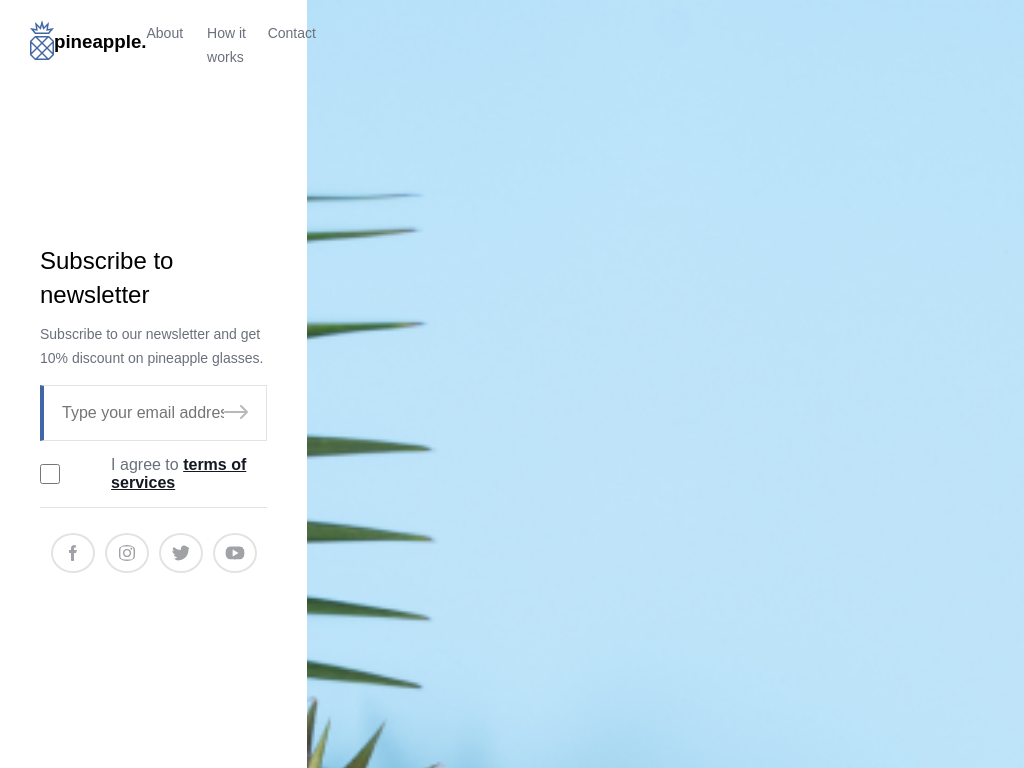
Test: has email validation
This screenshot has width=1024, height=768.
Type "test" into the field at [143, 413], box [62,404,224,422]
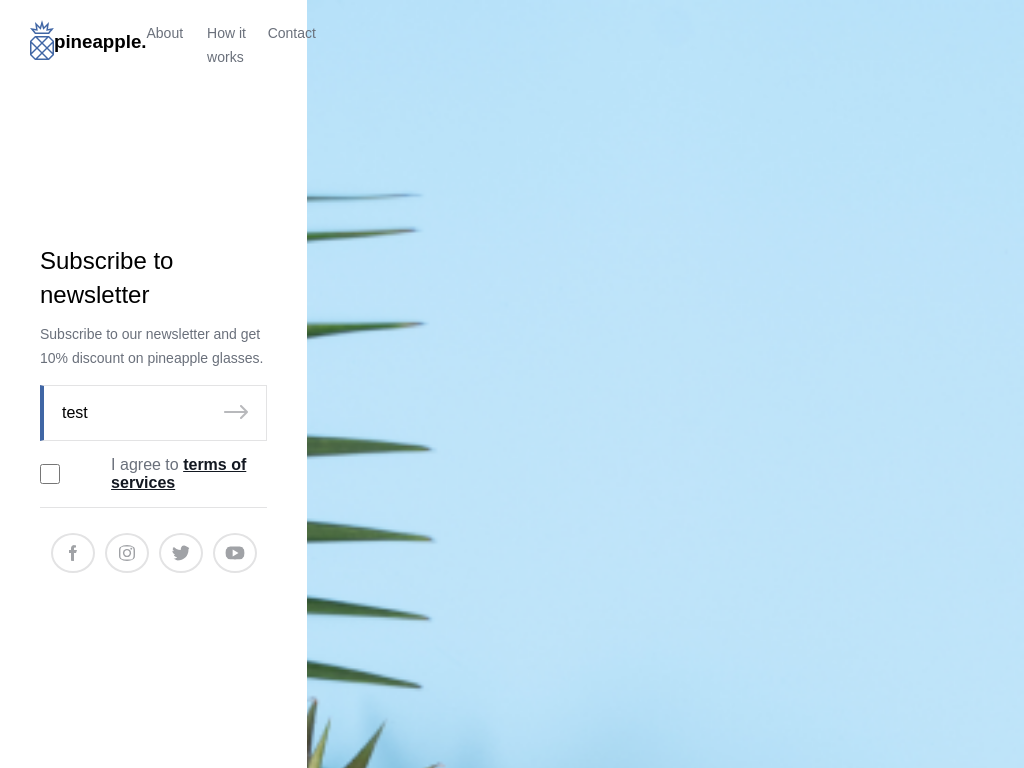
Submit the form from the field, box [62,404,224,422]
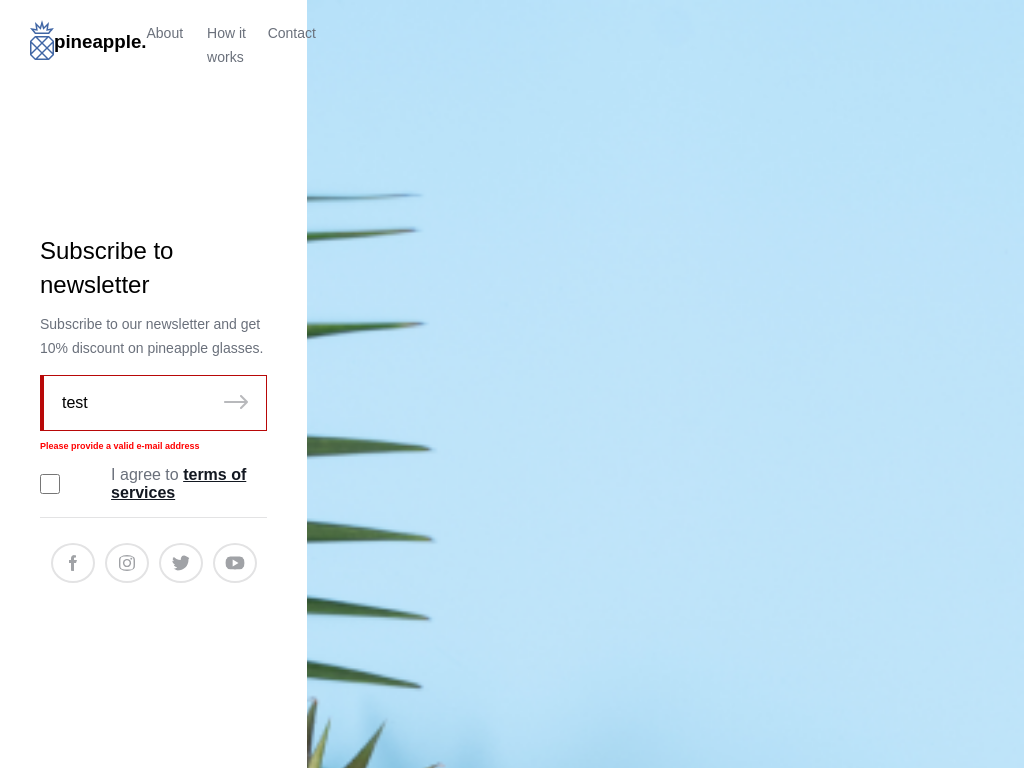
Check: the heading "Please provide a valid e-mail address" is shown, box [40,441,200,451]
